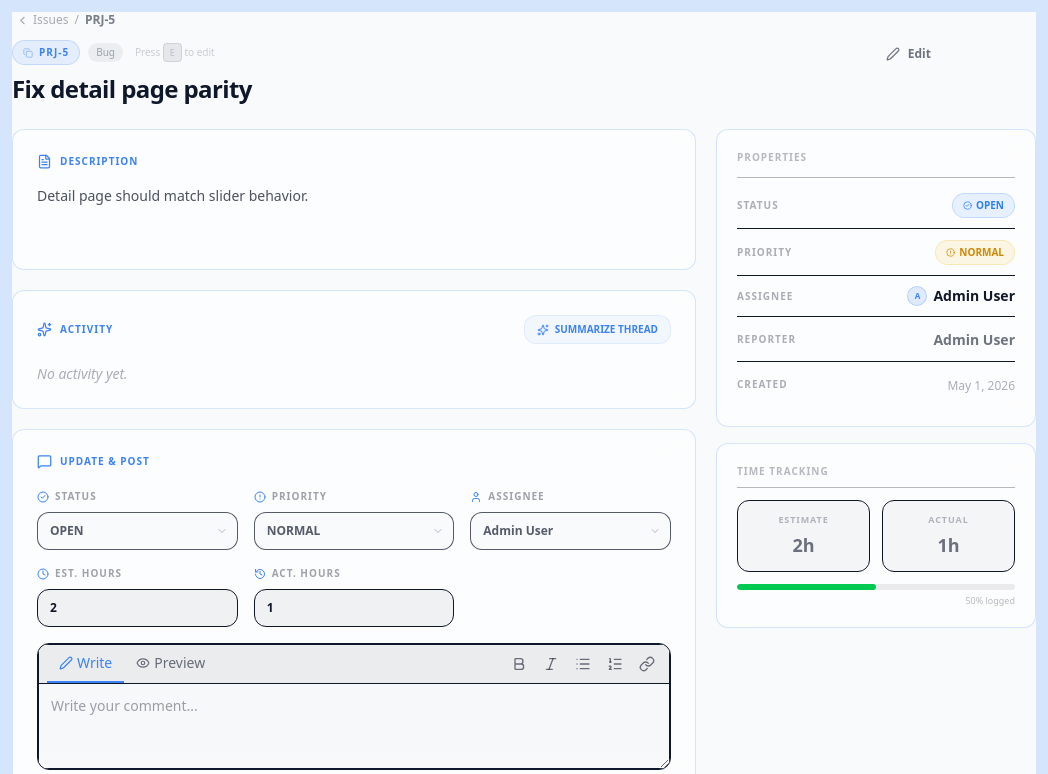
Scenario: Issue detail page slider parity › summarizes the issue thread from the standalone detail page
The image size is (1048, 774).
Expected: the heading "Fix detail page parity" is shown, [12,72,252,105]
Click the button "SUMMARIZE THREAD" at (597, 330), box [524,315,671,344]
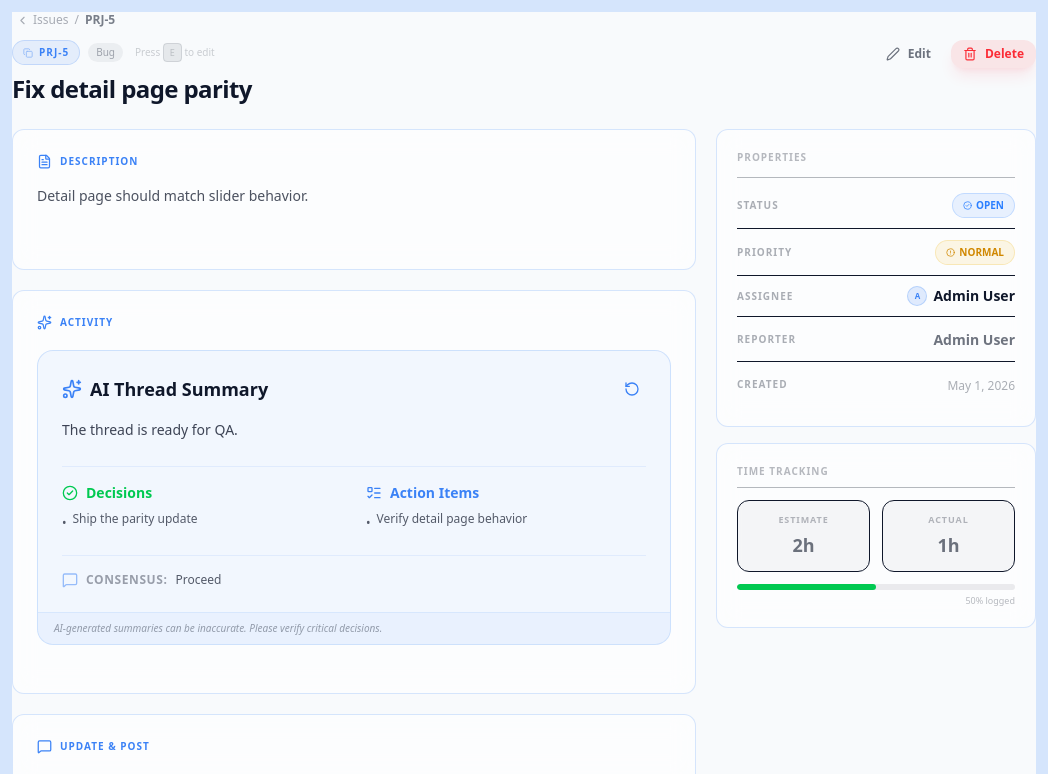
Expected: the text "The thread is ready for QA." is shown, [62,420,238,439]
Expected: the list item "Ship the parity update" is shown, [72,510,198,527]
Expected: the list item "Verify detail page behavior" is shown, [376,510,527,527]
